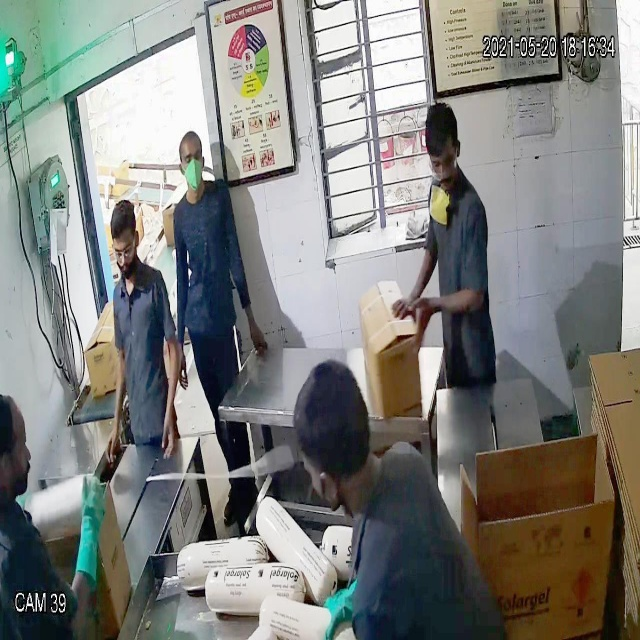Sin_gafas: (424, 156, 462, 185), (109, 235, 136, 265)
